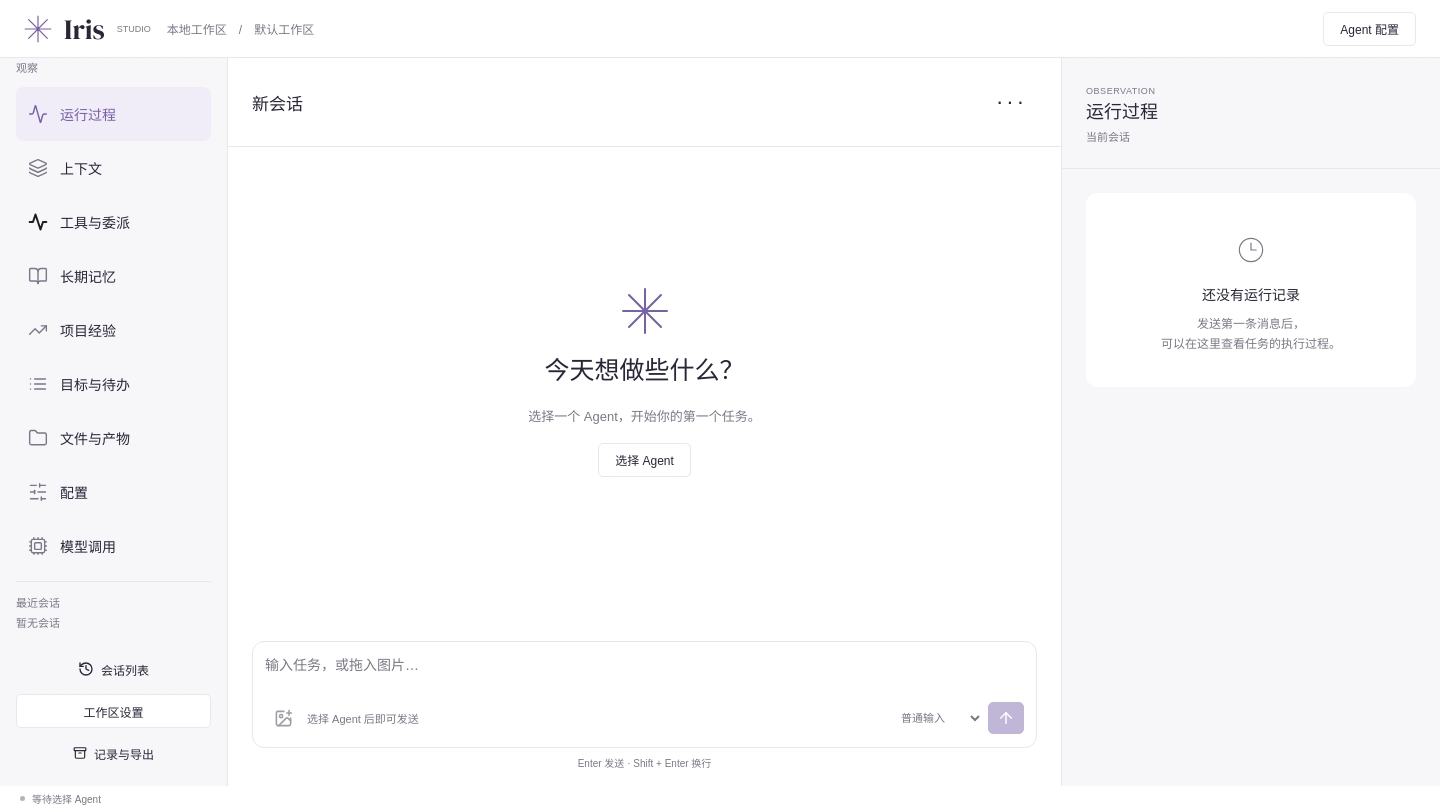
Scenario: offers a separate session picker when the compact sidebar hides recent rows
(page scrolled)
Click the button "会话列表": click(114, 669) [16, 652, 211, 686]
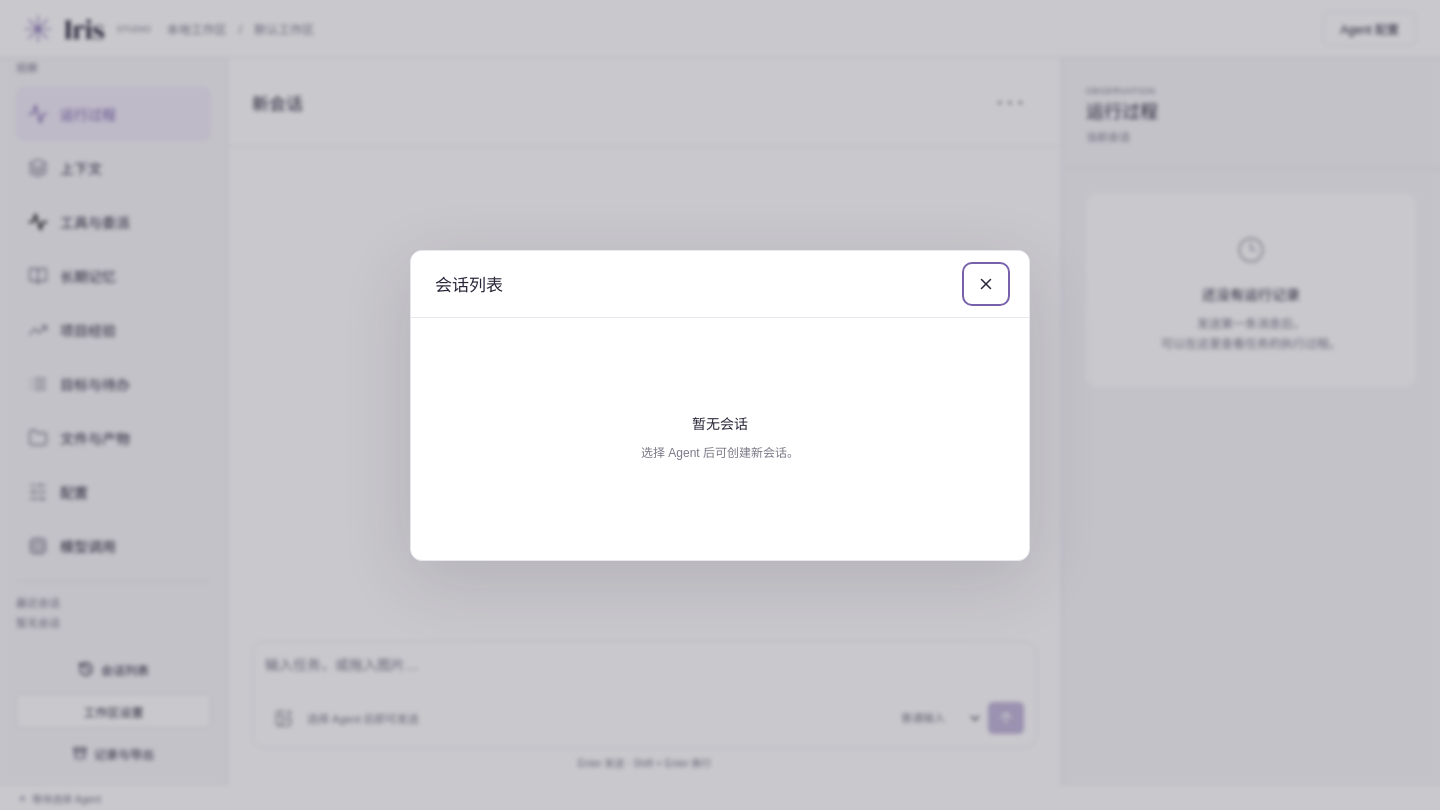
Expected: the dialog is shown, [410, 250, 1030, 560]
Expected: the text "选择 Agent 后可创建新会话。" is shown, [641, 443, 799, 464]
